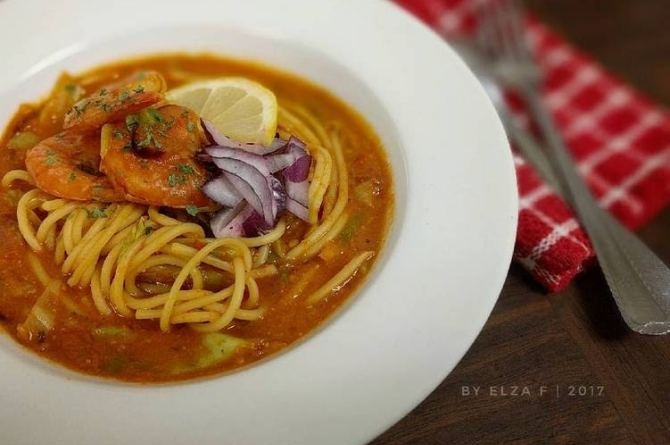mie_aceh: (3, 56, 383, 384)
